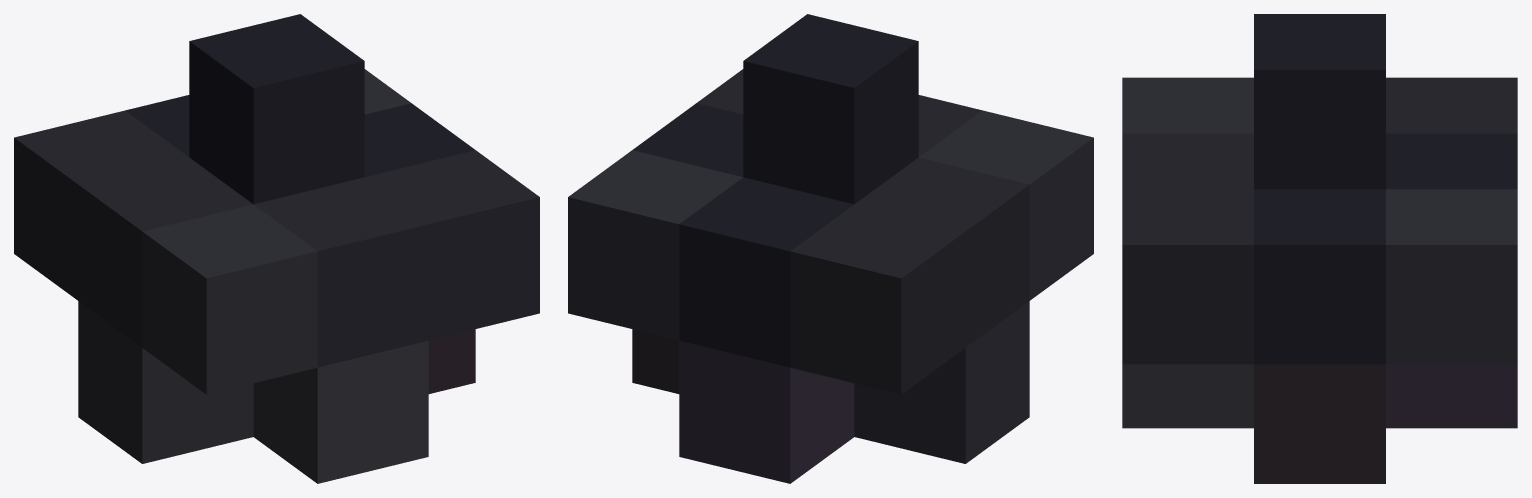
File: tavern_lantern.glb
3 views of the same model, side by side, from view 1: azimuth 30°, elevation 25°; view 2: azimuth 150°, elevation 25°; view 3: azimuth 270°, elevation 25° (orthographic). The views are drawn at different scales.
Visible parts, largest first — view 1: tavern_lantern; view 2: tavern_lantern; view 3: tavern_lantern.
Boxes of the visible parts, x1,y1,x2,y2 form: tavern_lantern: (14,14,539,483); tavern_lantern: (568,14,1093,483); tavern_lantern: (1122,14,1517,483).
Bounding box in the file's own units: 0.75 × 0.75 × 0.75.
1 material, 1 textured.
